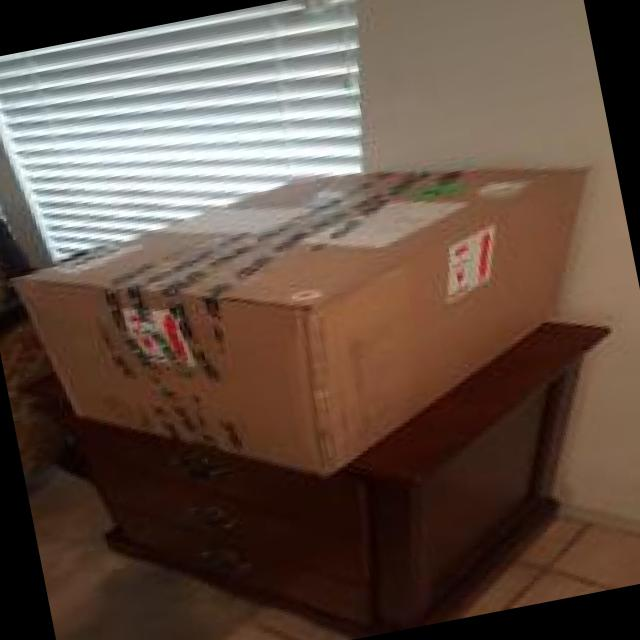box: (168, 92, 525, 593)
crushed: (192, 228, 380, 358)
